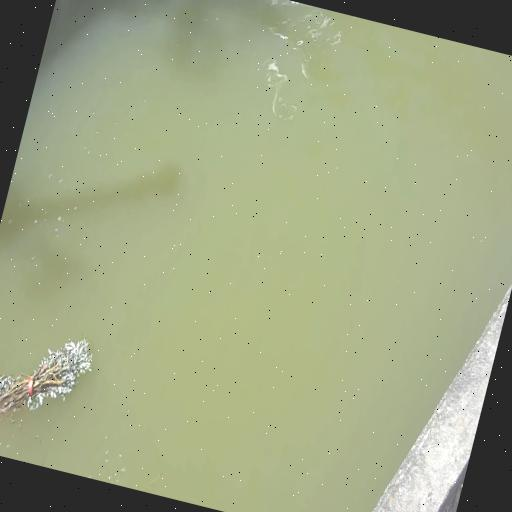twig: (0, 339, 91, 415)
